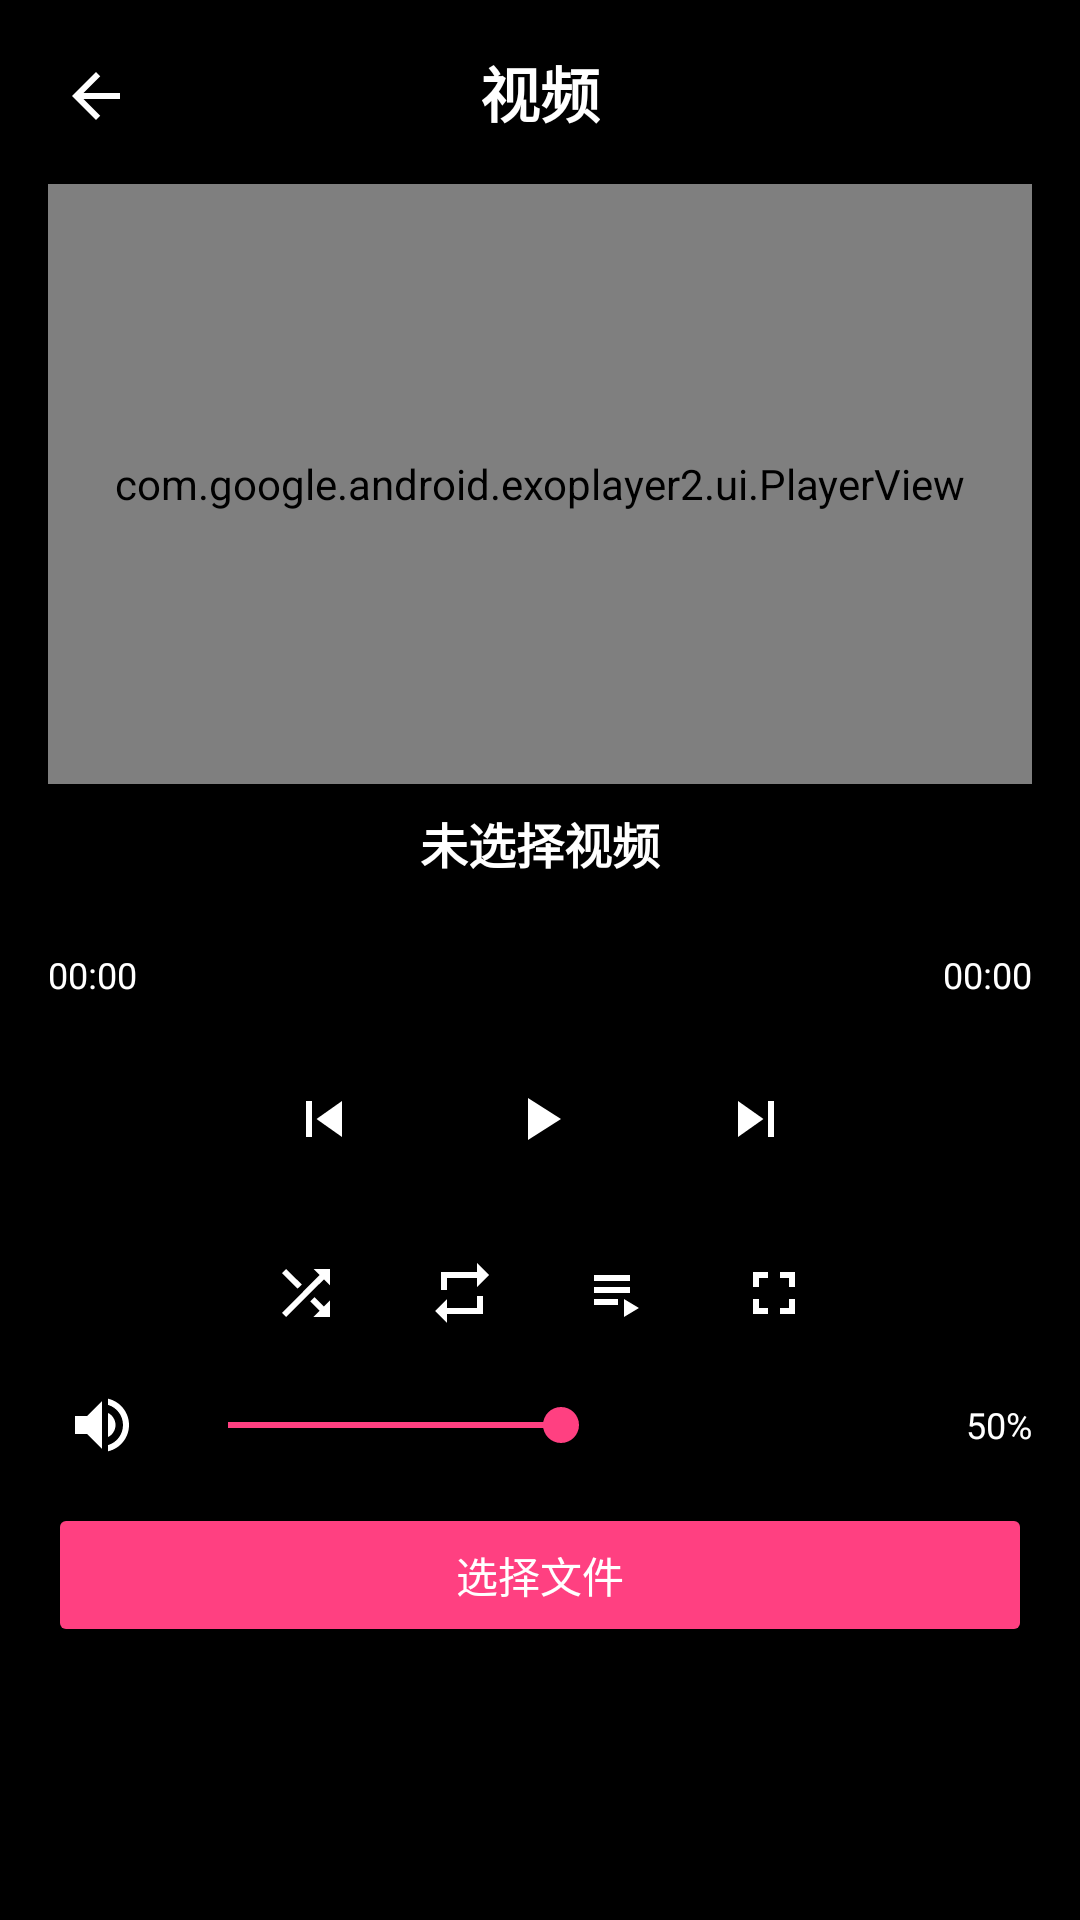

Where to tap for icons on this 1080 × 1920 app screen, as point (x, y):
back: point (96, 96)
play: point (544, 1119)
上一个: point (324, 1119)
下一个: point (756, 1119)
全屏: point (774, 1293)
播放列表: point (616, 1296)
重复播放: point (462, 1293)
随机播放: point (306, 1293)
静音: point (102, 1425)
